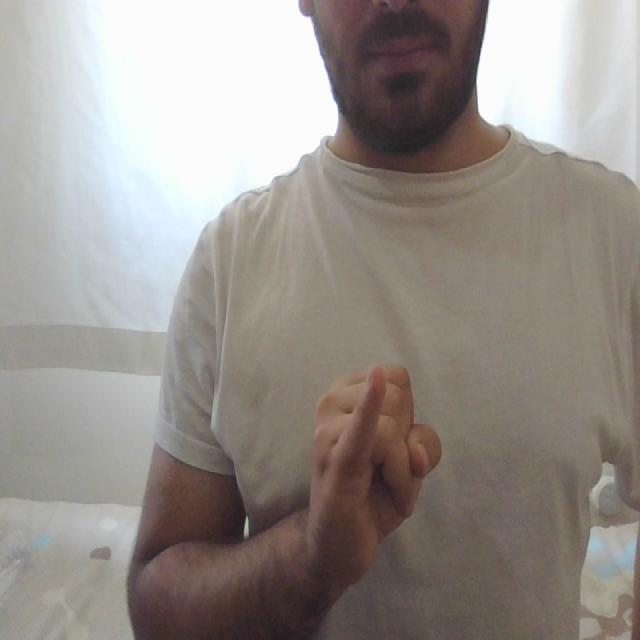kotu: (306, 348, 445, 534)
